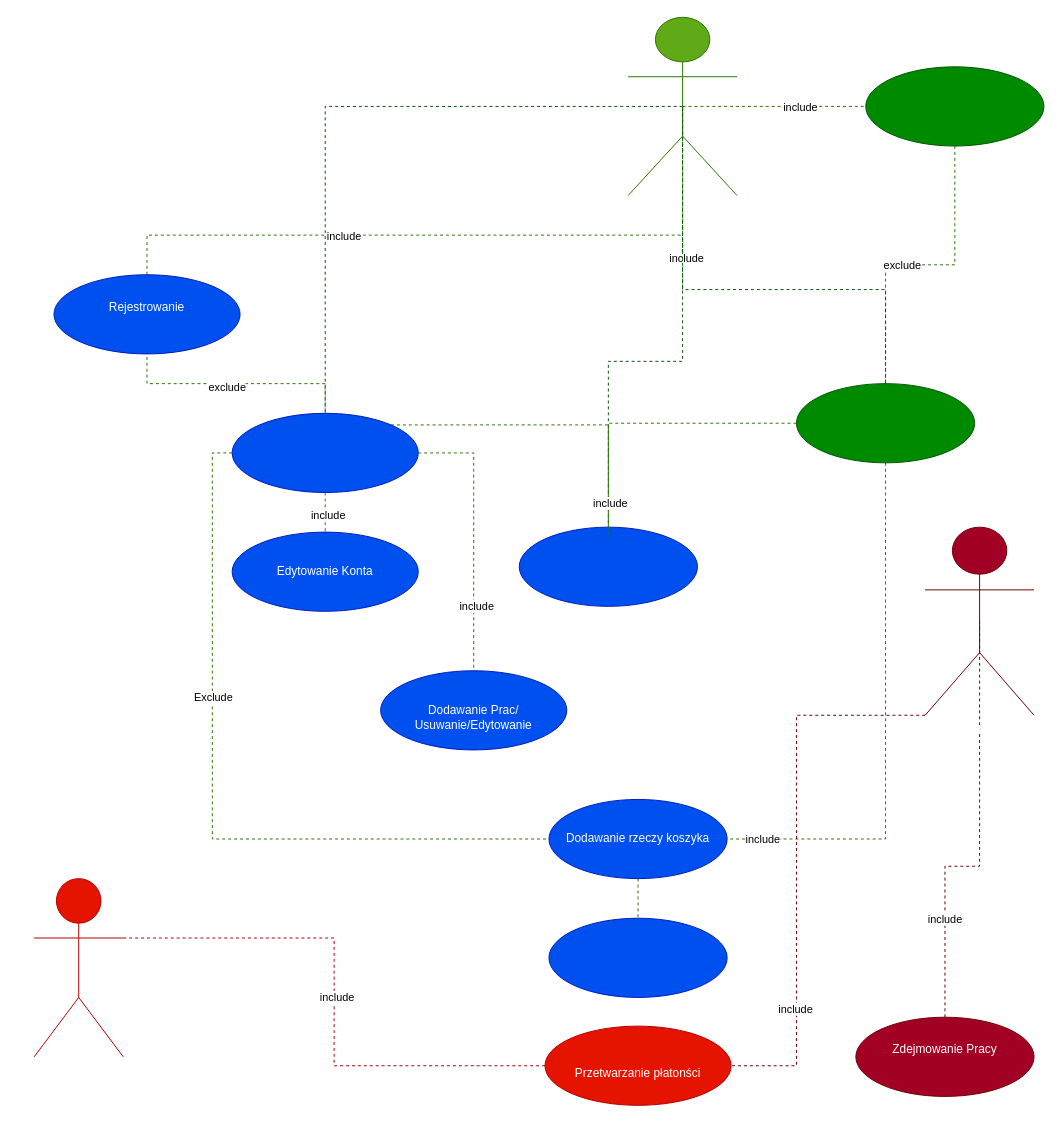
Image size: 1061x1123. Some labels were removed from this diagram. Each missing label, with the centre of its shape:
"Kupowanie Prac" belongs at (x=637, y=957).
"Logowanie" belongs at (x=324, y=452).
"Ocenianie Prac" belongs at (x=607, y=566).
"Przeglądanie Prac" belongs at (x=885, y=423).
"Wysukiwanie Prac" belongs at (x=954, y=106).
